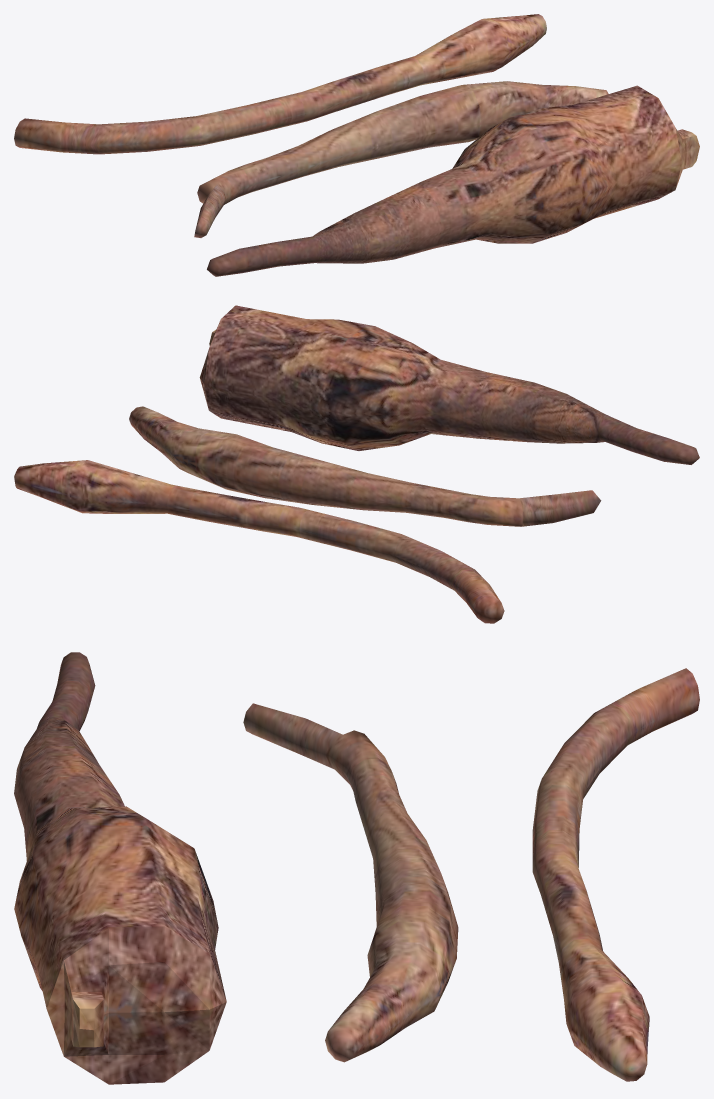
Rendered from qinjiao.FBX.
3 renders of one model, top to bottom at view 1: azimuth 30°, elevation 25°; view 2: azimuth 150°, elevation 25°; view 3: azimuth 270°, elevation 25°, orthographic. The views are drawn at different scales.
Parts seen in each view (by area): view 1: Cylinder003, Cylinder001, Cylinder002; view 2: Cylinder003, Cylinder002, Cylinder001; view 3: Cylinder003, Cylinder002, Cylinder001.
Part boxes in pixels (<box>): Cylinder003: <box>207,85,699,276</box>; Cylinder001: <box>14,14,546,154</box>; Cylinder002: <box>194,81,608,237</box>; Cylinder003: <box>199,305,699,464</box>; Cylinder002: <box>129,406,601,526</box>; Cylinder001: <box>14,460,504,623</box>; Cylinder003: <box>14,652,226,1084</box>; Cylinder002: <box>243,703,458,1062</box>; Cylinder001: <box>532,668,699,1081</box>.
Bounding box in the file's own units: 43.73 × 9.03 × 32.54.
